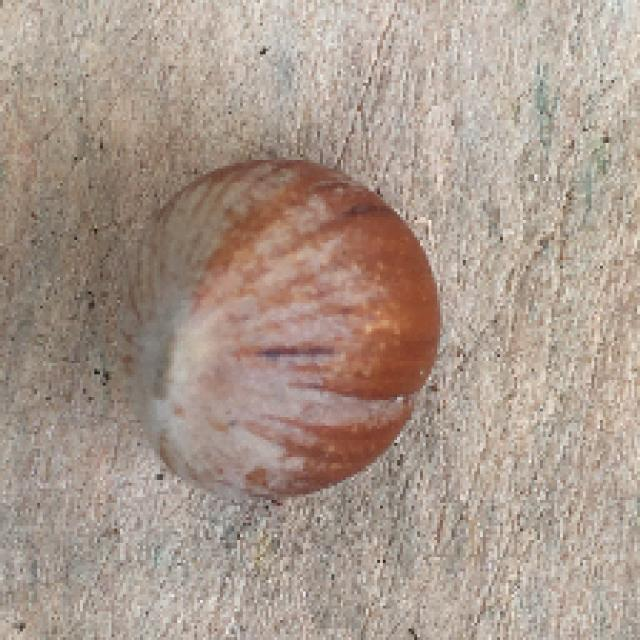qualityHazelnut: (124, 158, 446, 498)
